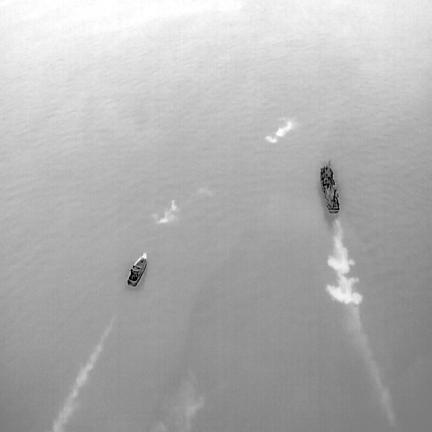flukeprints: (153, 200, 178, 224), (278, 121, 294, 137), (265, 136, 277, 142)
